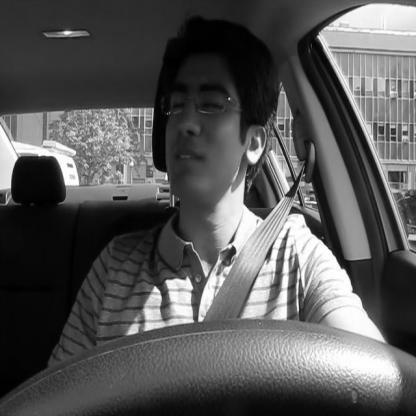seatbelt: (147, 0, 320, 412)
